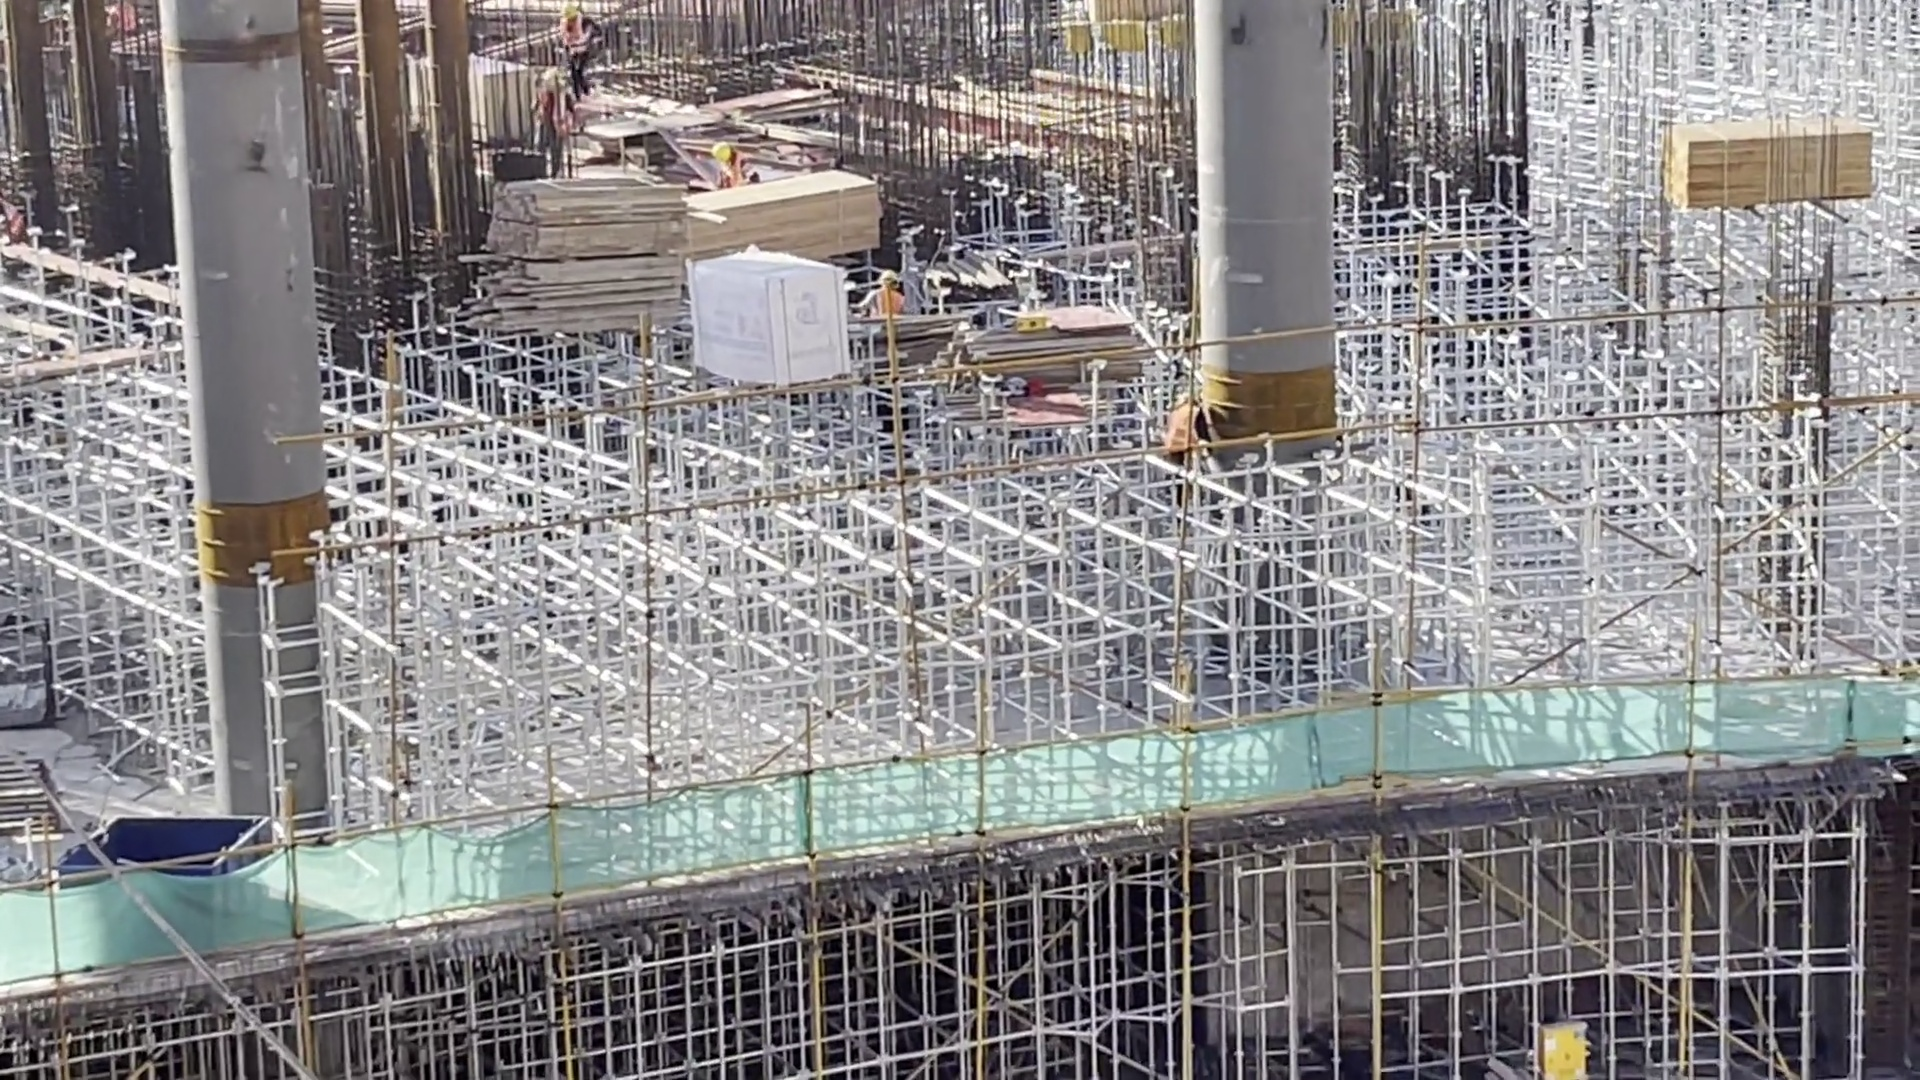board: (949, 302, 1149, 391)
ebox: (1536, 1017, 1596, 1080)
helmet: (711, 141, 734, 164), (879, 268, 899, 285)
hopper: (48, 815, 280, 857)
person: (553, 2, 604, 105), (1160, 388, 1211, 449), (707, 140, 762, 187), (851, 267, 905, 314)
vest: (1165, 403, 1204, 449), (556, 16, 591, 53), (872, 290, 905, 316), (1, 197, 22, 238)
wood: (460, 169, 686, 334), (1658, 120, 1881, 206), (688, 168, 882, 258)
